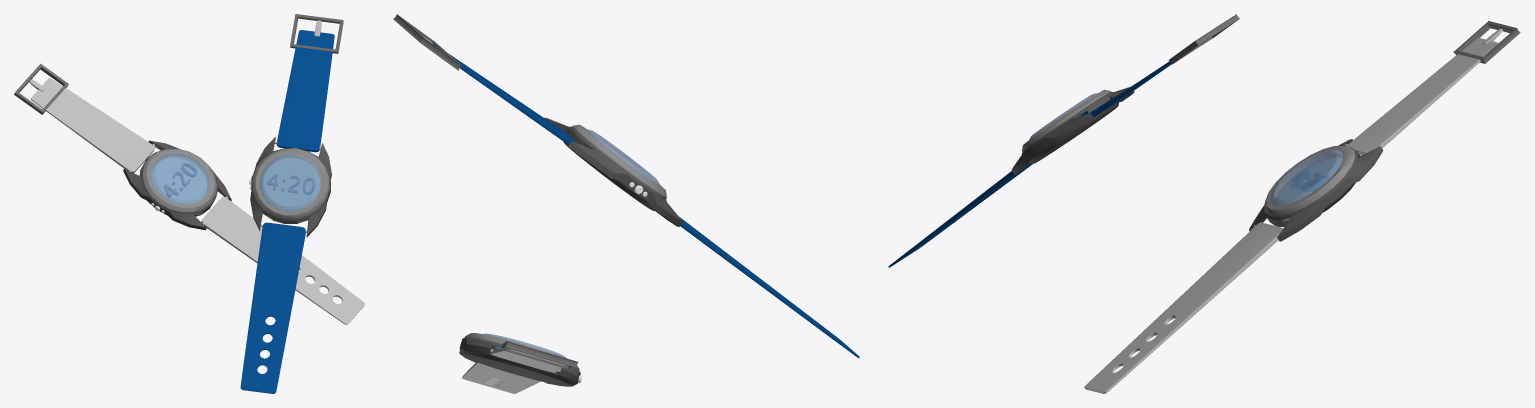
Rendered from gadget-watch.glb.
3 views of the same model, side by side, from view 1: azimuth 30°, elevation 25°; view 2: azimuth 150°, elevation 25°; view 3: azimuth 270°, elevation 25° (orthographic). The views are drawn at different scales.
Parts seen in each view (by area): view 1: pCube9, polySurface19, polySurface18, polySurface6, polySurface7, polySurface8, polySurface20; view 2: pCube9, polySurface6, polySurface19, polySurface20, polySurface18; view 3: polySurface19, pCube9, polySurface18, polySurface6, polySurface7, polySurface8, polySurface20.
Part boxes in pixels (left/top/right/bottom): pCube9: left=240, top=14, right=343, bottom=393; polySurface19: left=201, top=196, right=364, bottom=324; polySurface18: left=31, top=78, right=155, bottom=172; polySurface6: left=123, top=140, right=231, bottom=230; polySurface7: left=151, top=153, right=210, bottom=204; polySurface8: left=142, top=148, right=216, bottom=212; polySurface20: left=14, top=63, right=68, bottom=114; pCube9: left=393, top=14, right=859, bottom=358; polySurface6: left=459, top=337, right=580, bottom=386; polySurface19: left=462, top=362, right=540, bottom=393; polySurface20: left=500, top=341, right=578, bottom=370; polySurface18: left=491, top=349, right=565, bottom=372; polySurface19: left=1084, top=222, right=1283, bottom=393; pCube9: left=888, top=14, right=1239, bottom=267; polySurface18: left=1345, top=38, right=1498, bottom=155; polySurface6: left=1249, top=139, right=1383, bottom=241; polySurface7: left=1271, top=150, right=1342, bottom=205; polySurface8: left=1264, top=146, right=1355, bottom=216; polySurface20: left=1453, top=21, right=1520, bottom=63.
Size of the model in its own units: 0.1304 by 0.1499 by 0.2279.
